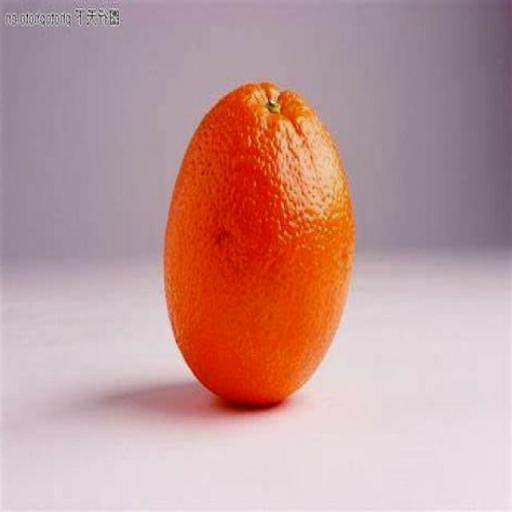fruit: (164, 84, 353, 403)
